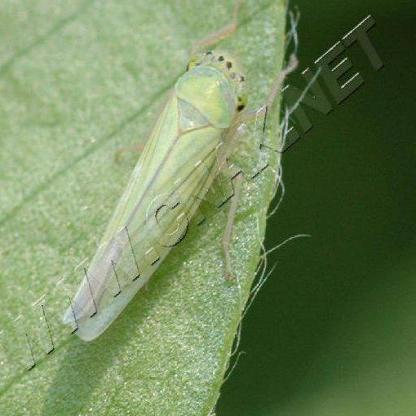Green-Leafhopper: (60, 16, 256, 340)
